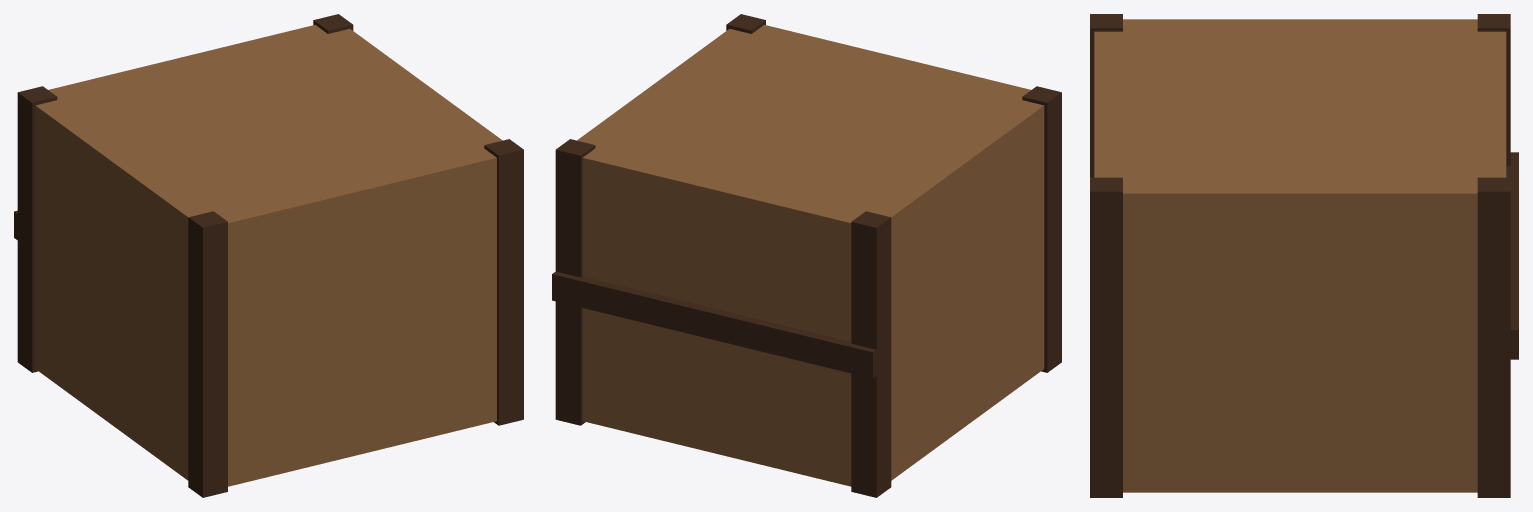
File: crate_wood.glb
3 renders of one model, left to right at view 1: azimuth 30°, elevation 25°; view 2: azimuth 150°, elevation 25°; view 3: azimuth 270°, elevation 25°, orthographic. The views are drawn at different scales.
Visible parts, largest first — view 1: crate_wood; view 2: crate_wood; view 3: crate_wood.
Part boxes in pixels (<box>): crate_wood: <box>14,14,523,497</box>; crate_wood: <box>552,14,1061,497</box>; crate_wood: <box>1090,14,1518,497</box>.
Size of the model in its own units: 1.02 by 0.82 by 1.04.
